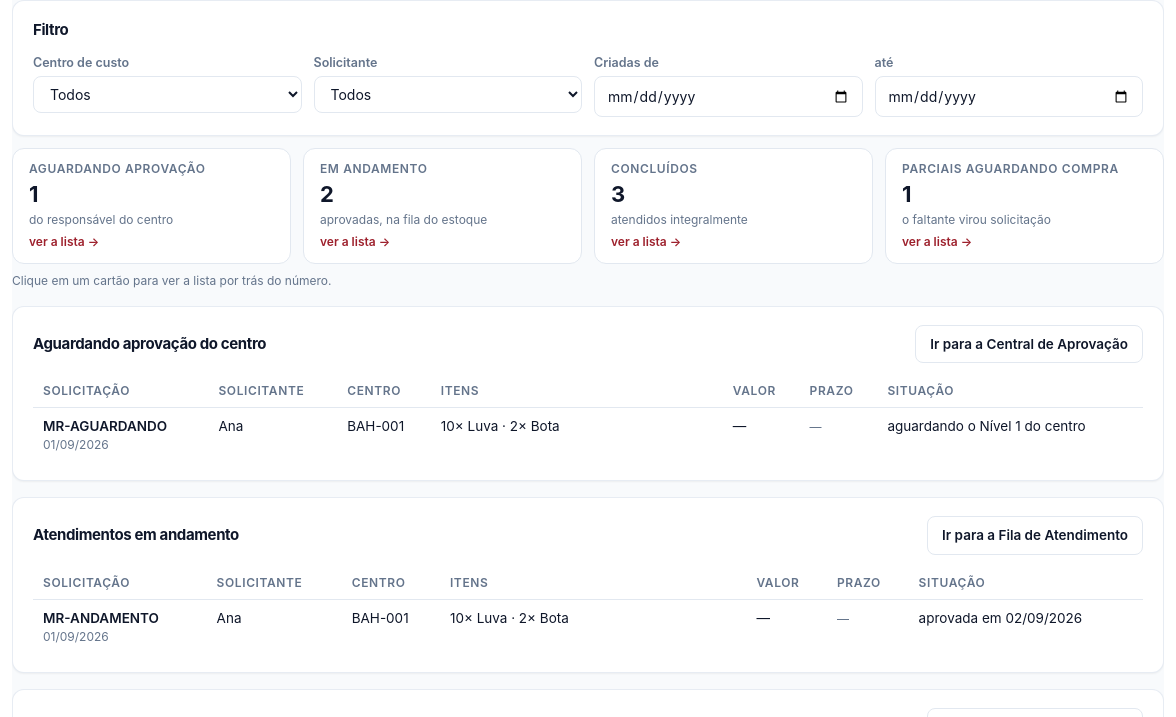
Scenario: o filtro do painel › limpar devolve o painel inteiro de uma vez
Expected: the table with test id "painel-aguardando" is shown, left=33, top=375, right=1143, bottom=462
Select "BAH-001" in the dropdown labelled "Centro de custo": (167,95) left=33, top=76, right=302, bottom=113
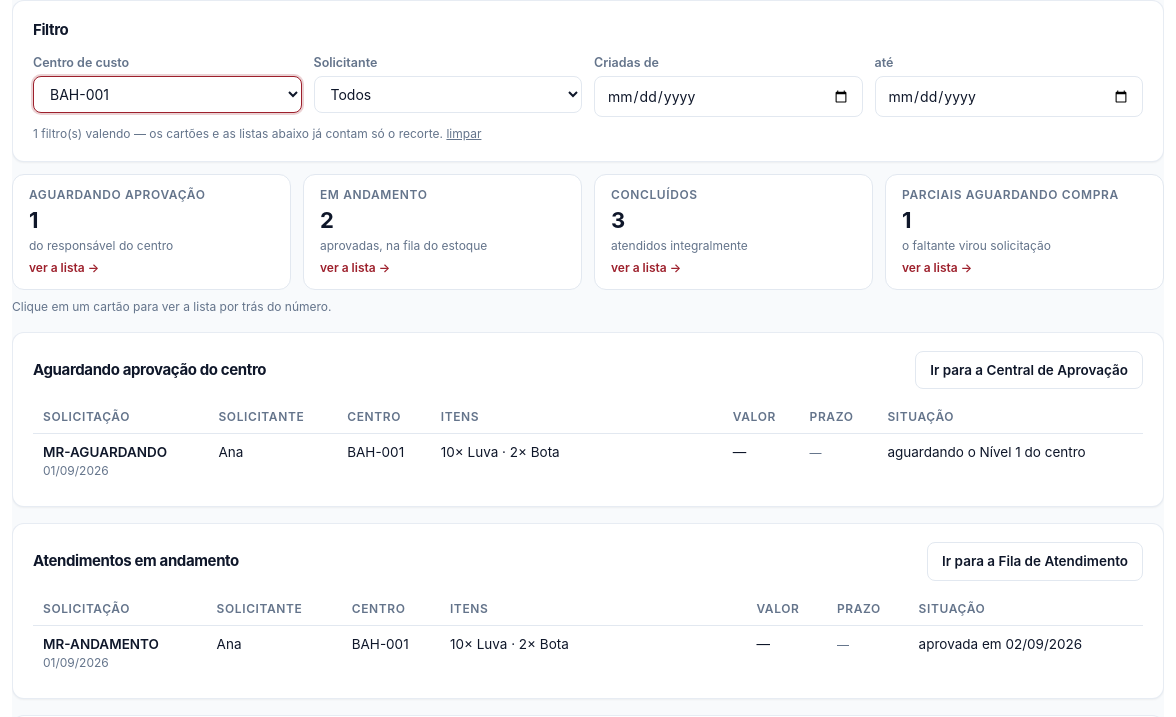
Click the button with test id "limpar-filtro": (464,134) left=446, top=125, right=481, bottom=143
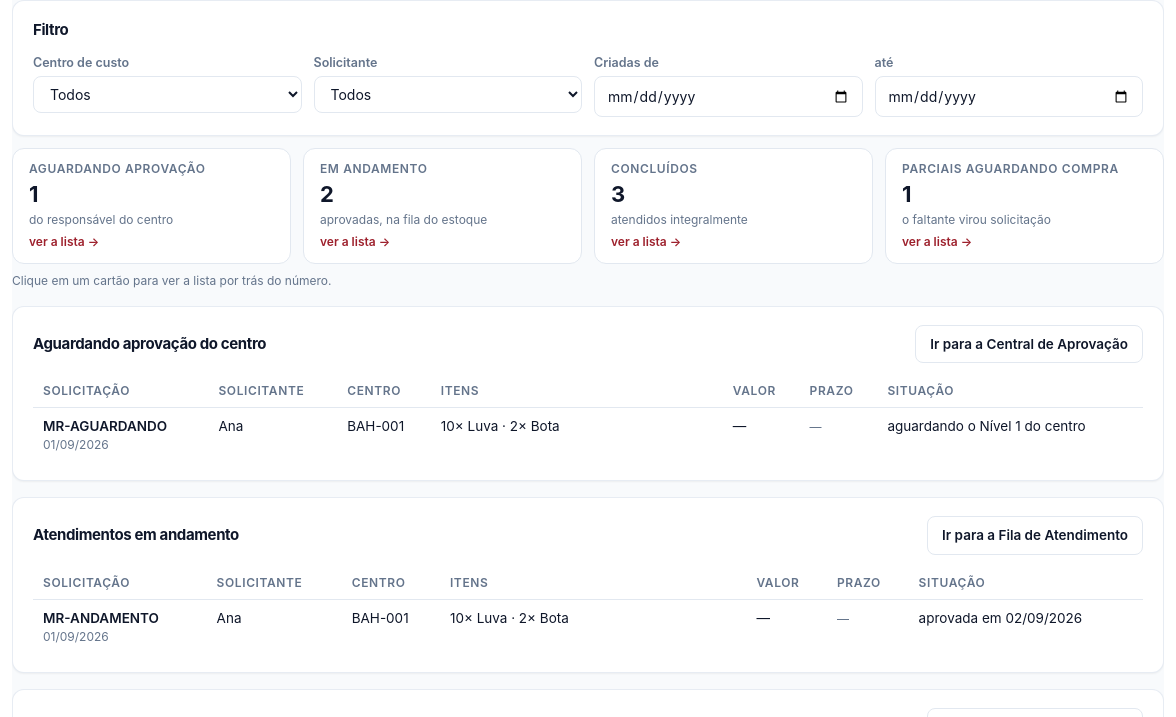
Expected: the button with test id "limpar-filtro" is gone
